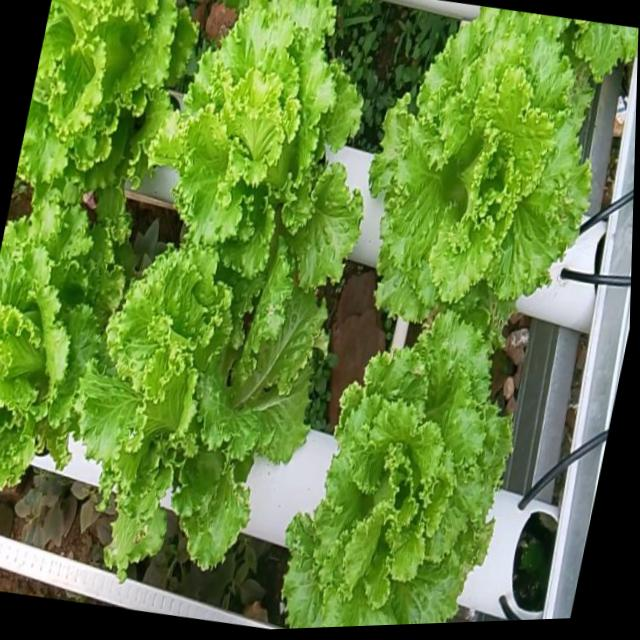Mature: (80, 239, 324, 608), (368, 6, 631, 330), (281, 307, 511, 628), (148, 0, 361, 289), (15, 0, 194, 216), (0, 201, 122, 488)
